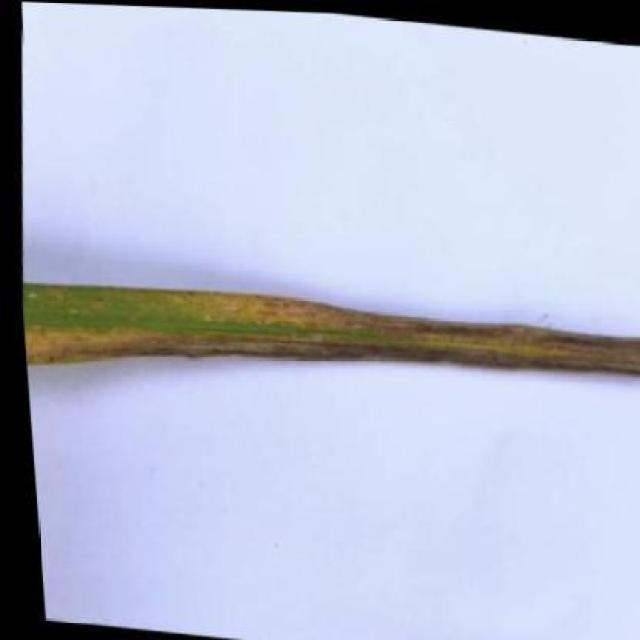Rice False Smut: (15, 261, 640, 433)
